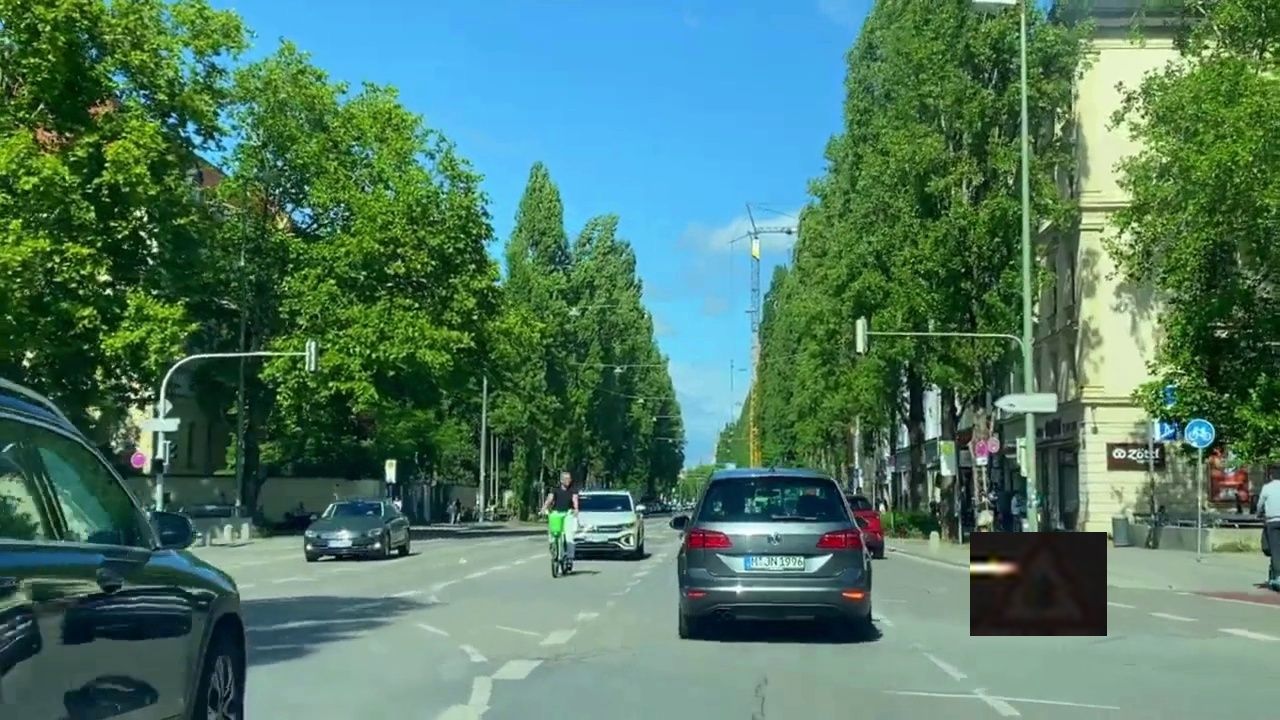Ice/snow: (970, 532, 1107, 636)
